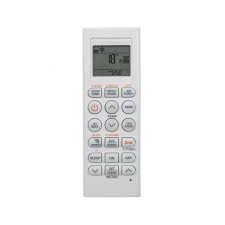remote control: (85, 24, 144, 198)
